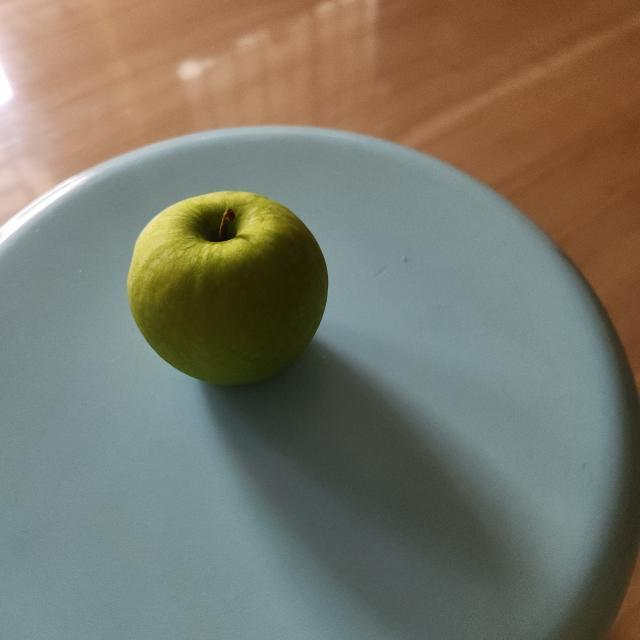apple: (120, 186, 338, 394)
